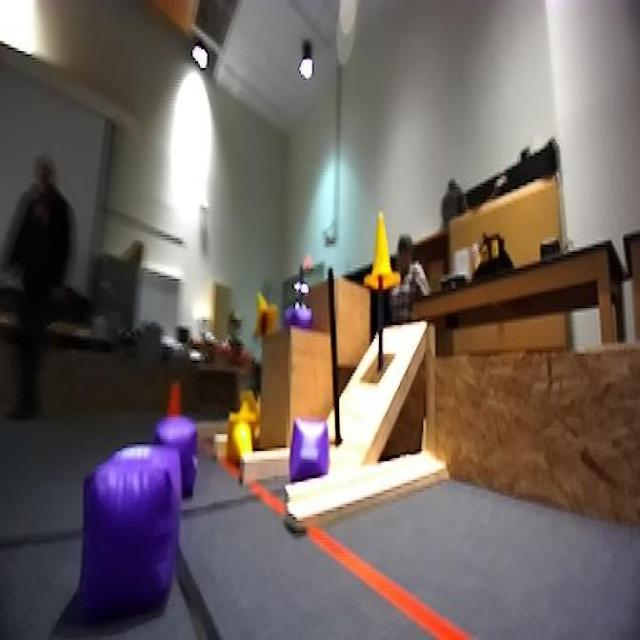frc_cone: (370, 220, 398, 292), (226, 414, 259, 464), (254, 293, 276, 335), (238, 395, 260, 419)
frc_cube: (82, 444, 179, 614), (158, 417, 204, 499), (290, 414, 332, 482), (292, 301, 318, 334)
